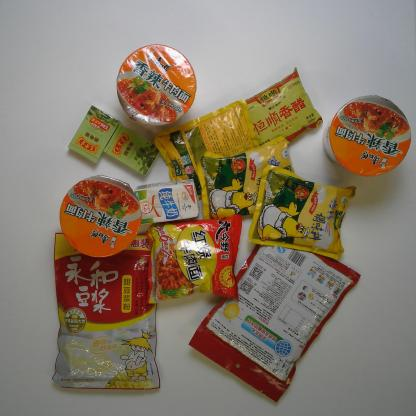Candy: (68, 105, 119, 164), (104, 124, 162, 174)
Instant Drink: (188, 234, 362, 406), (47, 224, 160, 395)
Instant Noodles: (142, 215, 246, 304), (318, 90, 414, 178), (53, 173, 146, 261), (114, 42, 198, 130)
Milk: (134, 179, 201, 227)
Seasoner: (243, 162, 359, 260), (150, 98, 258, 195), (226, 65, 323, 162), (195, 137, 299, 224)
